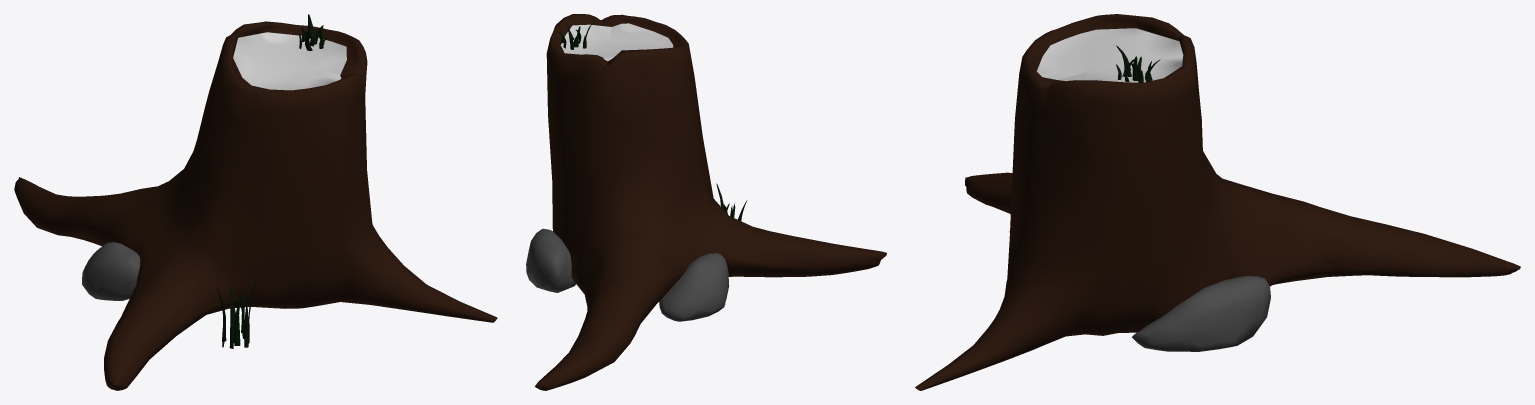
The model's file is LowPoly Tree .025.fbx.
3 renders of one model, left to right at view 1: azimuth 30°, elevation 25°; view 2: azimuth 150°, elevation 25°; view 3: azimuth 270°, elevation 25°, orthographic. The views are drawn at different scales.
Visible parts, largest first — view 1: LowPoly Tree .025; view 2: LowPoly Tree .025; view 3: LowPoly Tree .025.
Part boxes in pixels (x1=…): LowPoly Tree .025: x1=14, y1=14, x2=497, y2=390; LowPoly Tree .025: x1=526, y1=14, x2=886, y2=390; LowPoly Tree .025: x1=915, y1=14, x2=1520, y2=390.
Size of the model in its own units: 148 by 100 by 186.
